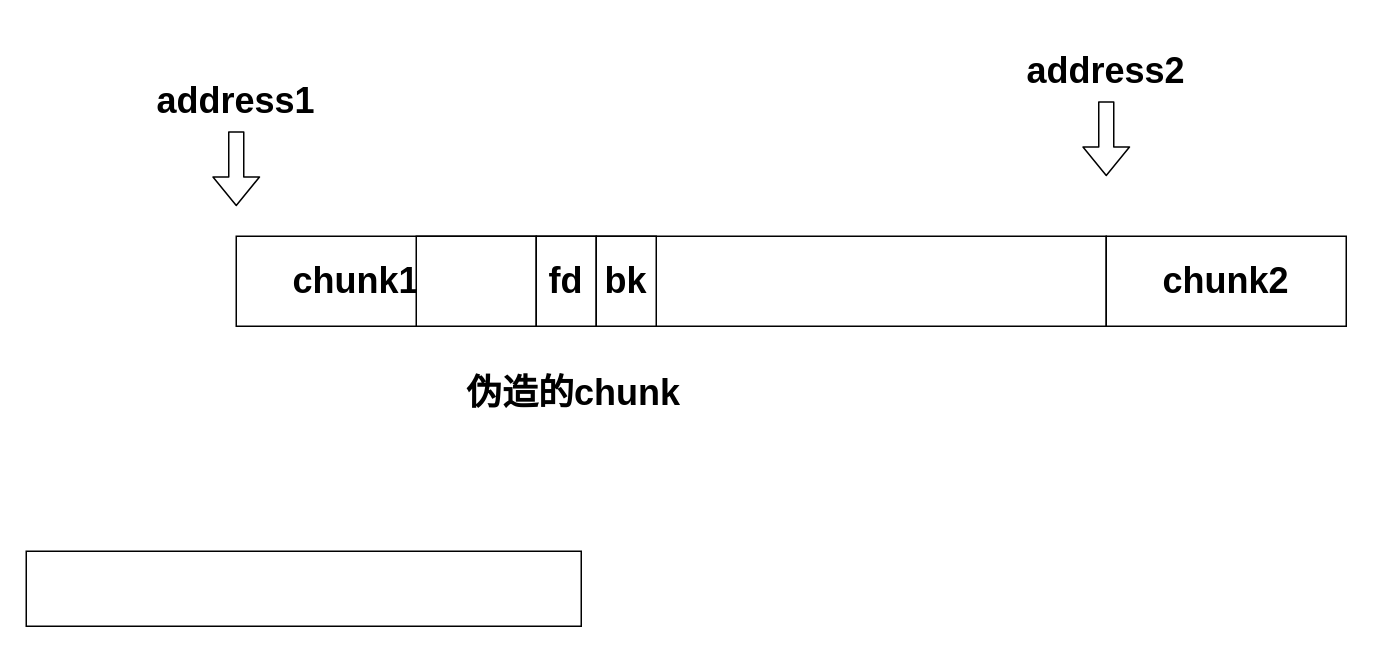
This 1373x660 diagram has some shape labels left out. Each missing label, with the box of its shape:
PRE_SIZE size: (415, 235, 536, 326)
指针ptr：address1+2×SIZE_SZ: (25, 550, 581, 626)
